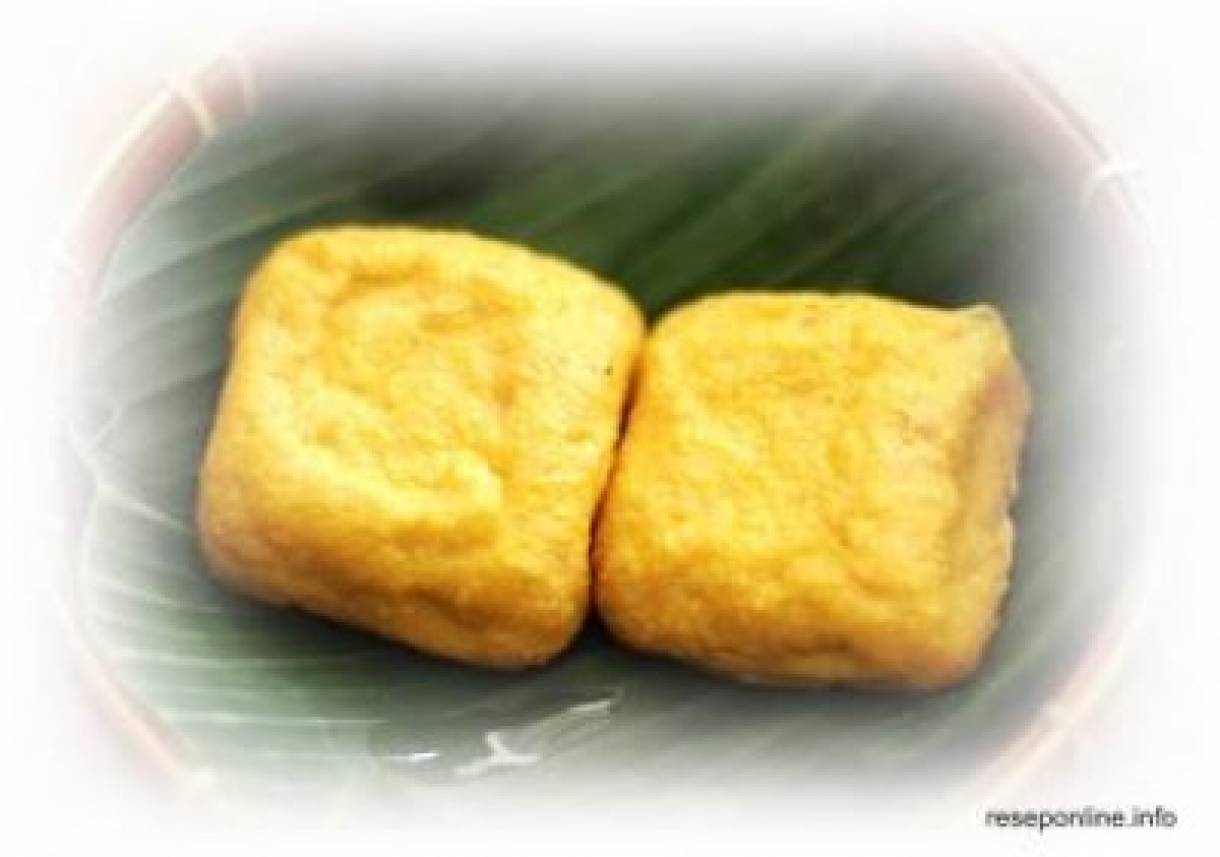Tahu: (112, 240, 677, 663), (607, 281, 1029, 733)
